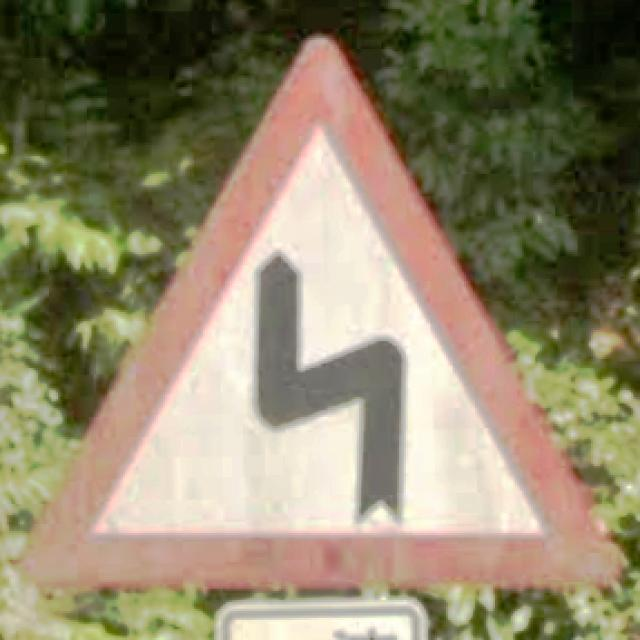doublebendleft: (25, 36, 622, 595)
